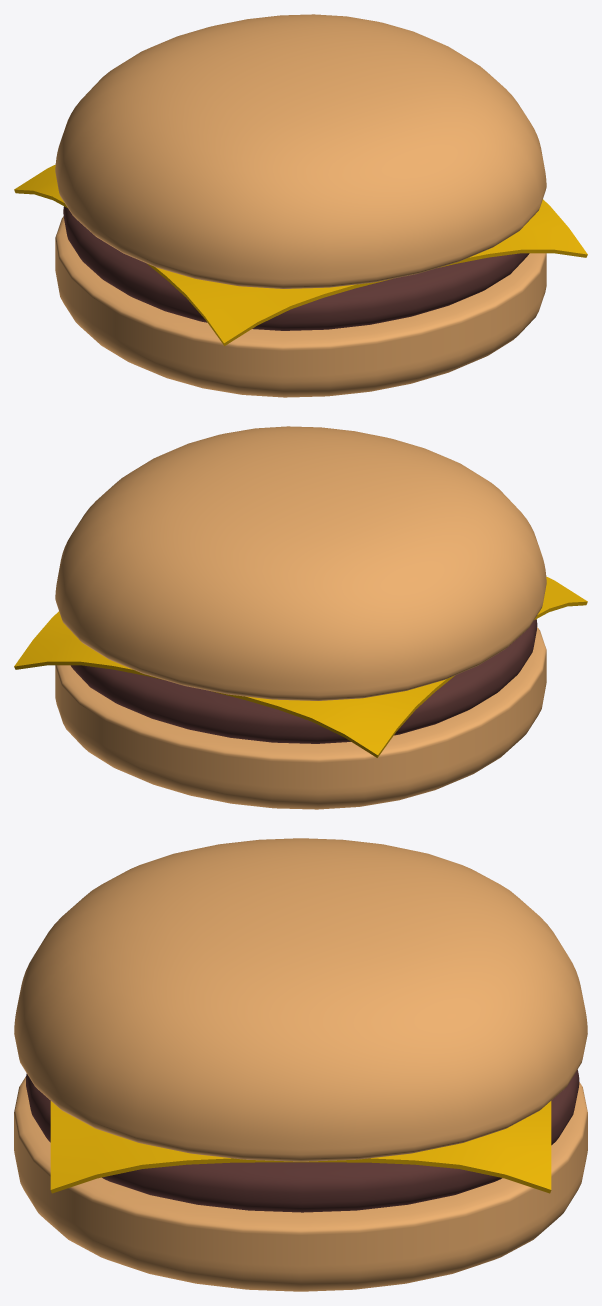
File: hamburger.glb
3 renders of one model, top to bottom at view 1: azimuth 30°, elevation 25°; view 2: azimuth 150°, elevation 25°; view 3: azimuth 270°, elevation 25°, orthographic. The views are drawn at different scales.
Parts seen in each view (by area): view 1: Cube.002, Cube, Cube.001, Plane; view 2: Cube.002, Cube, Cube.001, Plane; view 3: Cube.002, Cube, Cube.001, Plane.
Boxes of the visible parts, x1,y1,x2,y2 form: Cube.002: (55,14,546,288); Cube: (55,216,546,397); Cube.001: (63,206,529,330); Plane: (14,164,587,345); Cube.002: (55,426,546,700); Cube: (55,627,546,809); Cube.001: (70,619,537,743); Plane: (14,576,587,757); Cube.002: (14,838,587,1161); Cube: (14,1076,587,1291); Cube.001: (26,1069,579,1212); Plane: (50,1101,551,1193).
Bounding box in the file's own units: 9.17 × 5.48 × 9.17.
